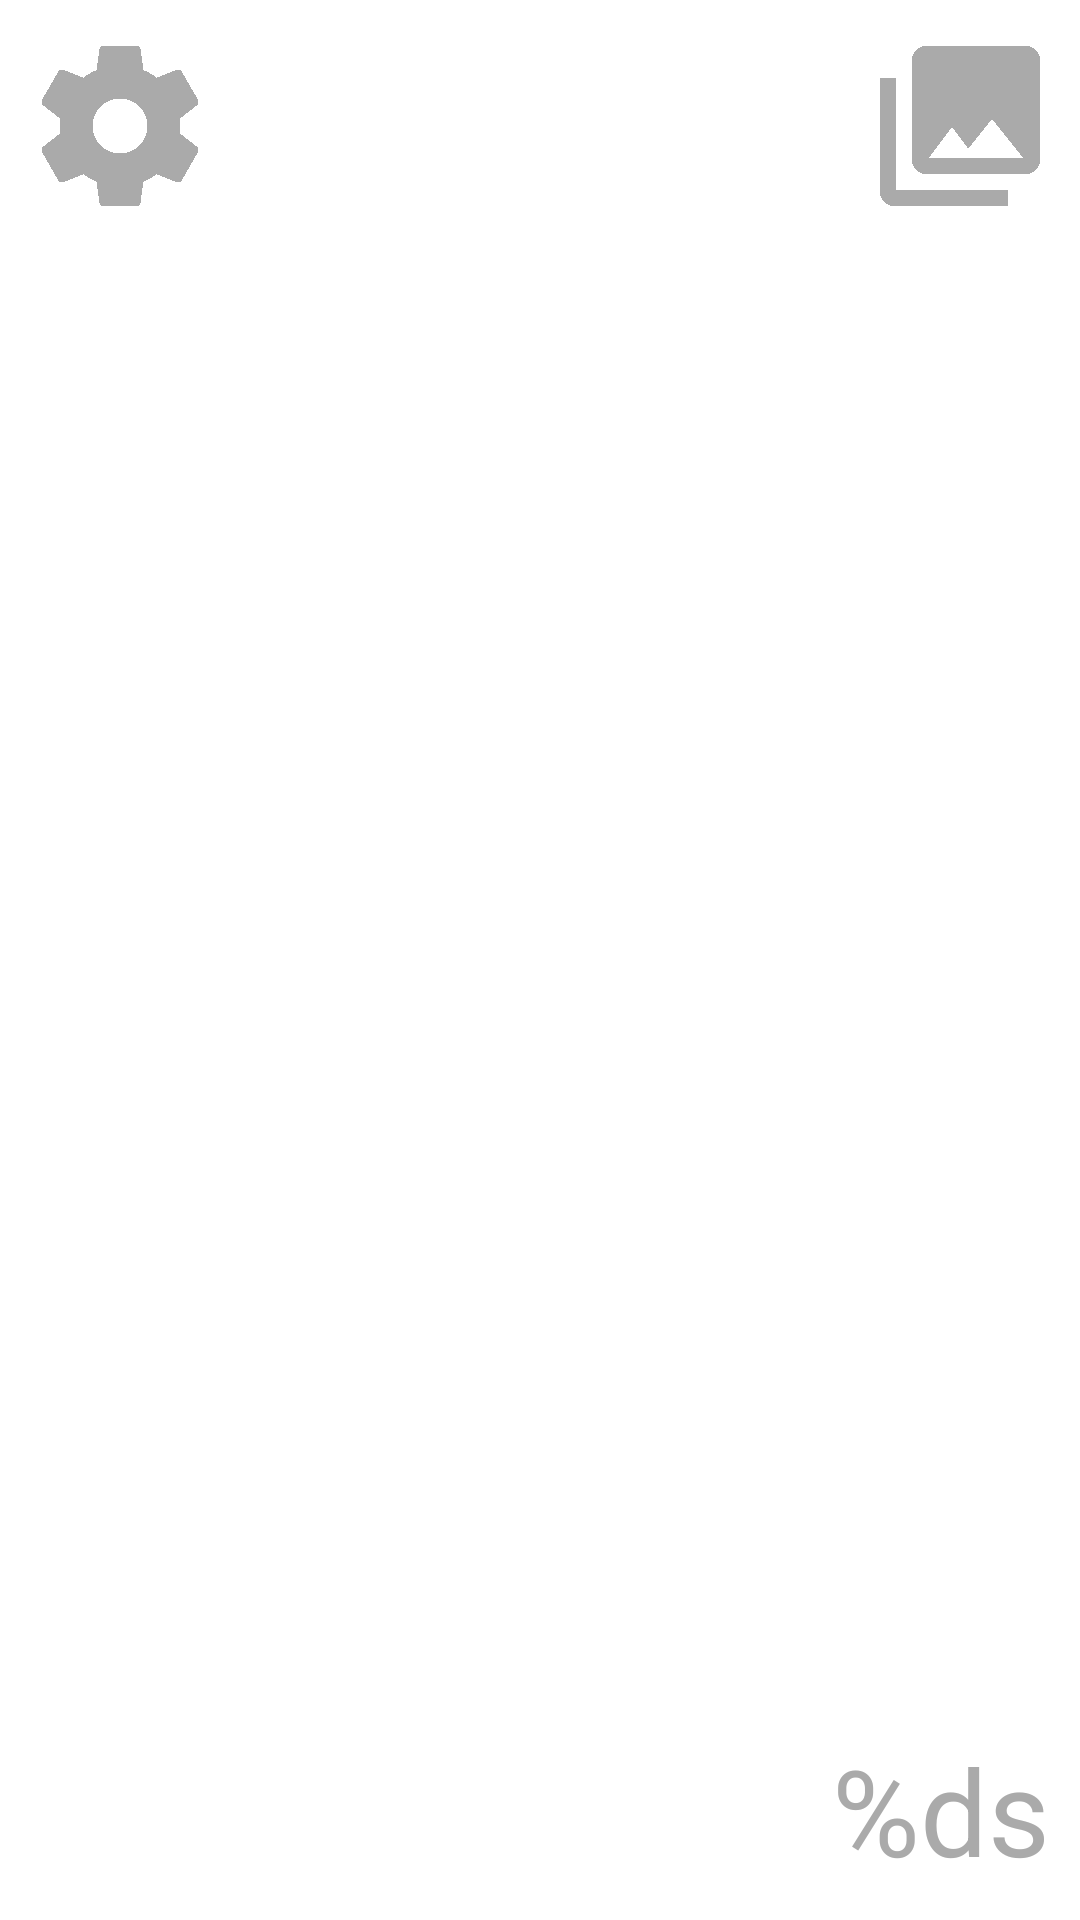

Screen size 1080px×1920px. Icon name, then its box in pixels as {"x1": x1, "y1": y1, "x2": x2, "y2": y2}:
gallery: {"x1": 880, "y1": 46, "x2": 1040, "y2": 206}
settings: {"x1": 42, "y1": 46, "x2": 198, "y2": 206}
